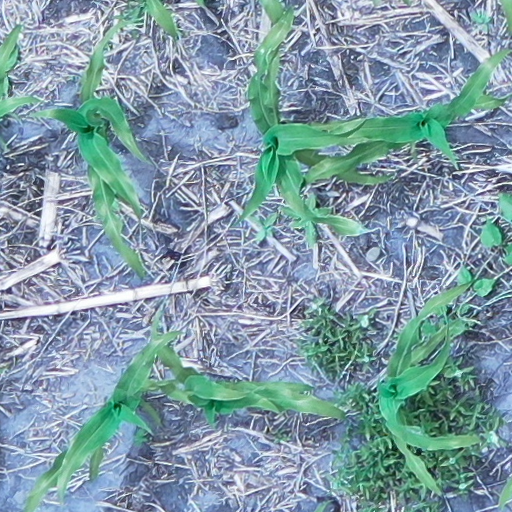planta: (237, 1, 396, 223), (26, 15, 151, 281), (23, 326, 186, 509), (373, 274, 488, 501), (148, 307, 351, 430)
